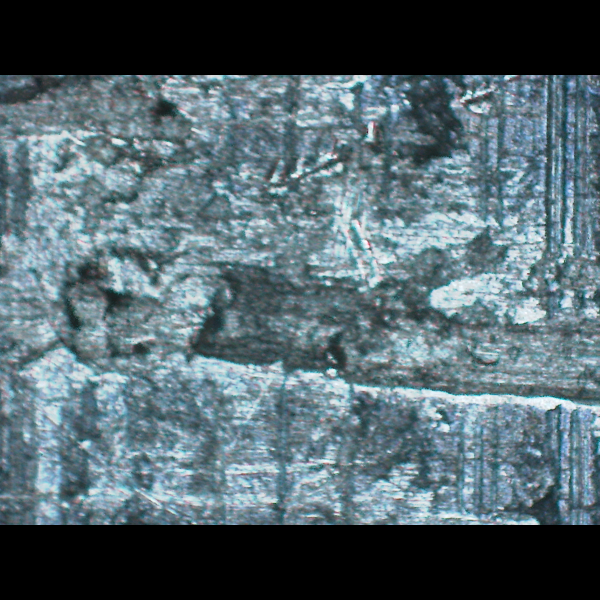d: (48, 219, 600, 426)
